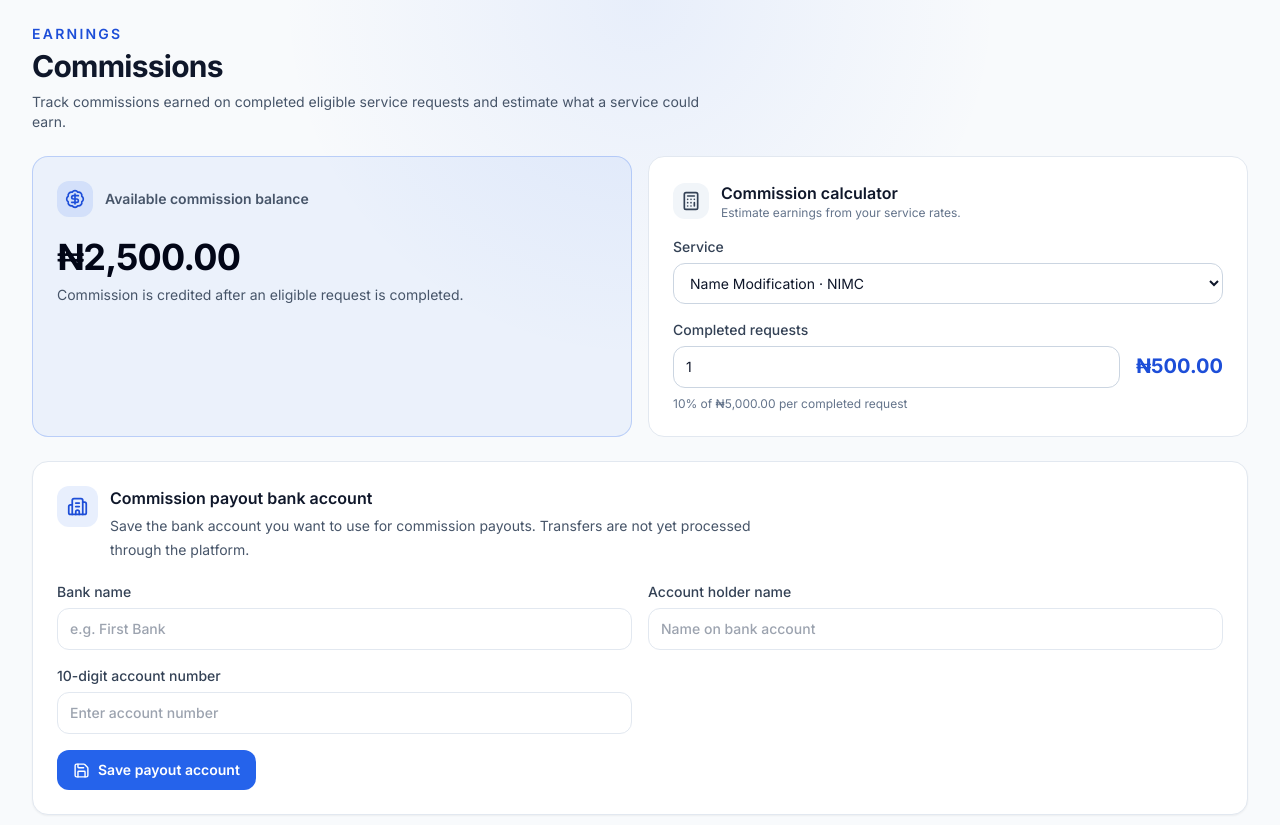
Test: Commissions › submits bank details to the payout endpoint without a document
Expected: the heading "Commission calculator" is shown, [721, 183, 898, 203]
Type "First Bank" into the field labelled "Bank name" at (344, 629), box [57, 608, 632, 650]
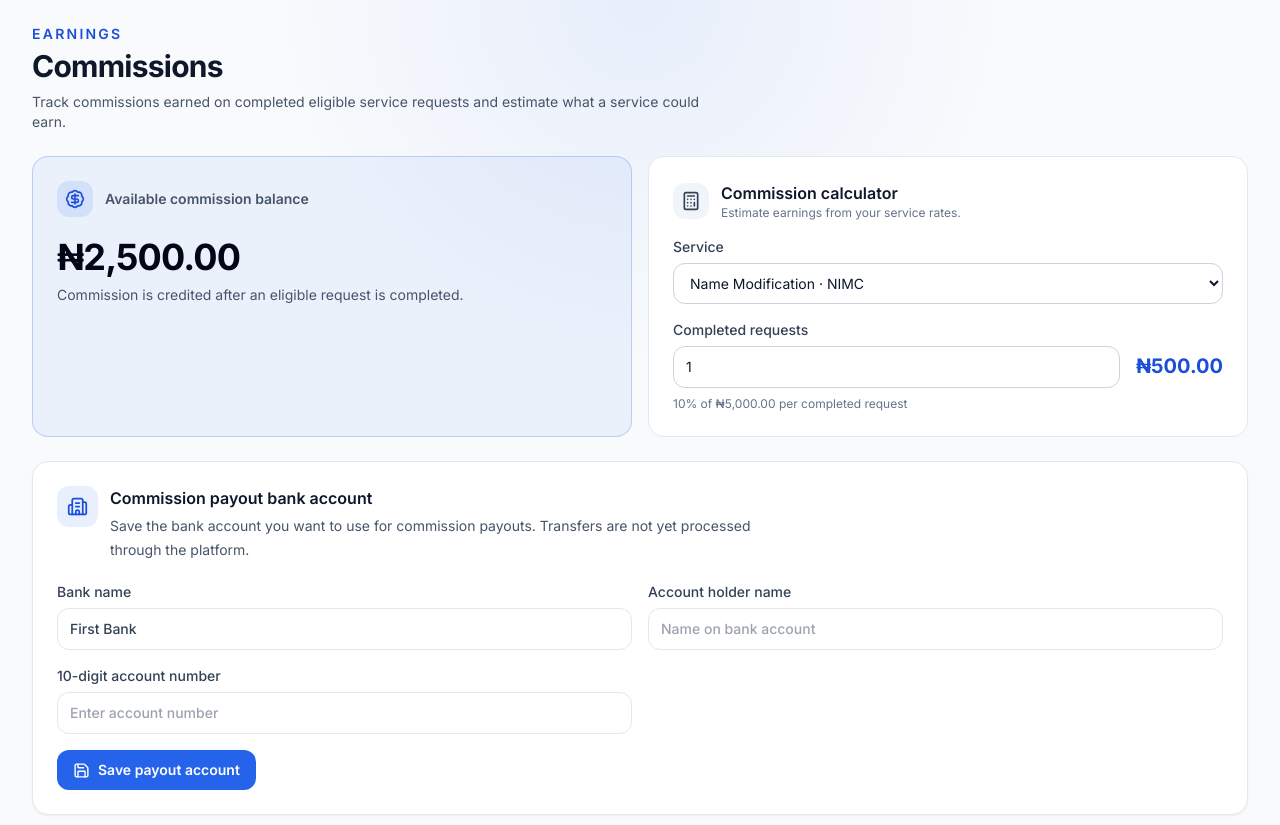
Type "Ada Agent" into the field labelled "Account holder name" at (936, 629), box [648, 608, 1223, 650]
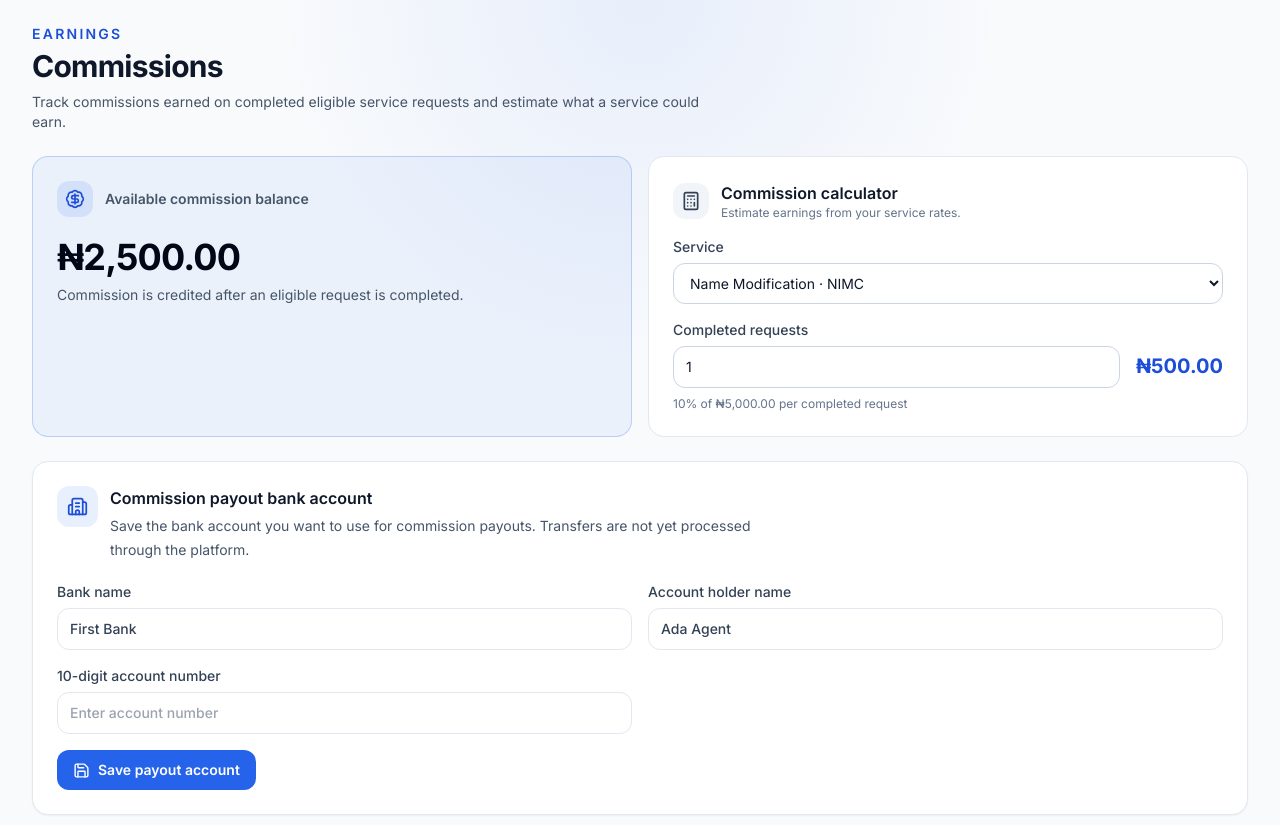
Type "1234561234" into the field labelled "10-digit account number" at (344, 713), box [57, 692, 632, 734]
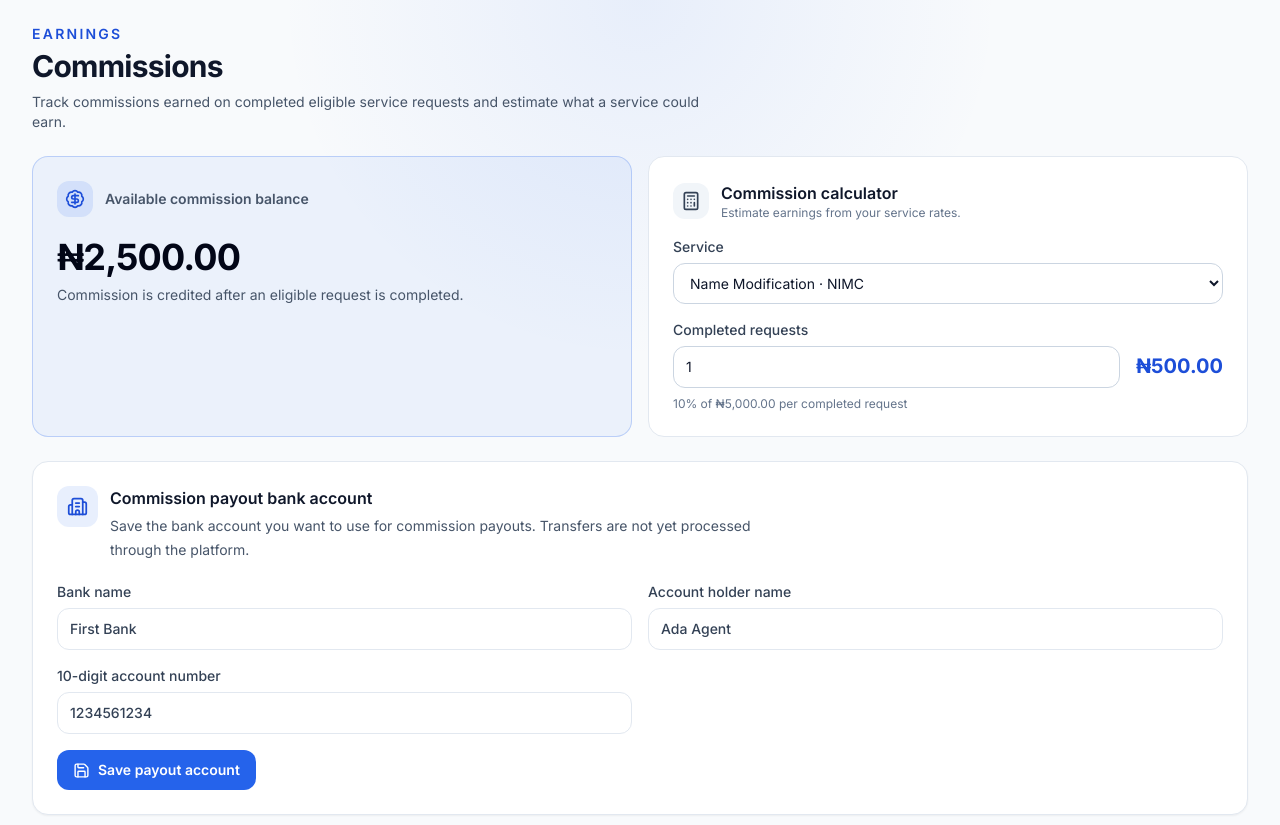
Submit the form "Save payout account", box [57, 582, 1223, 790]
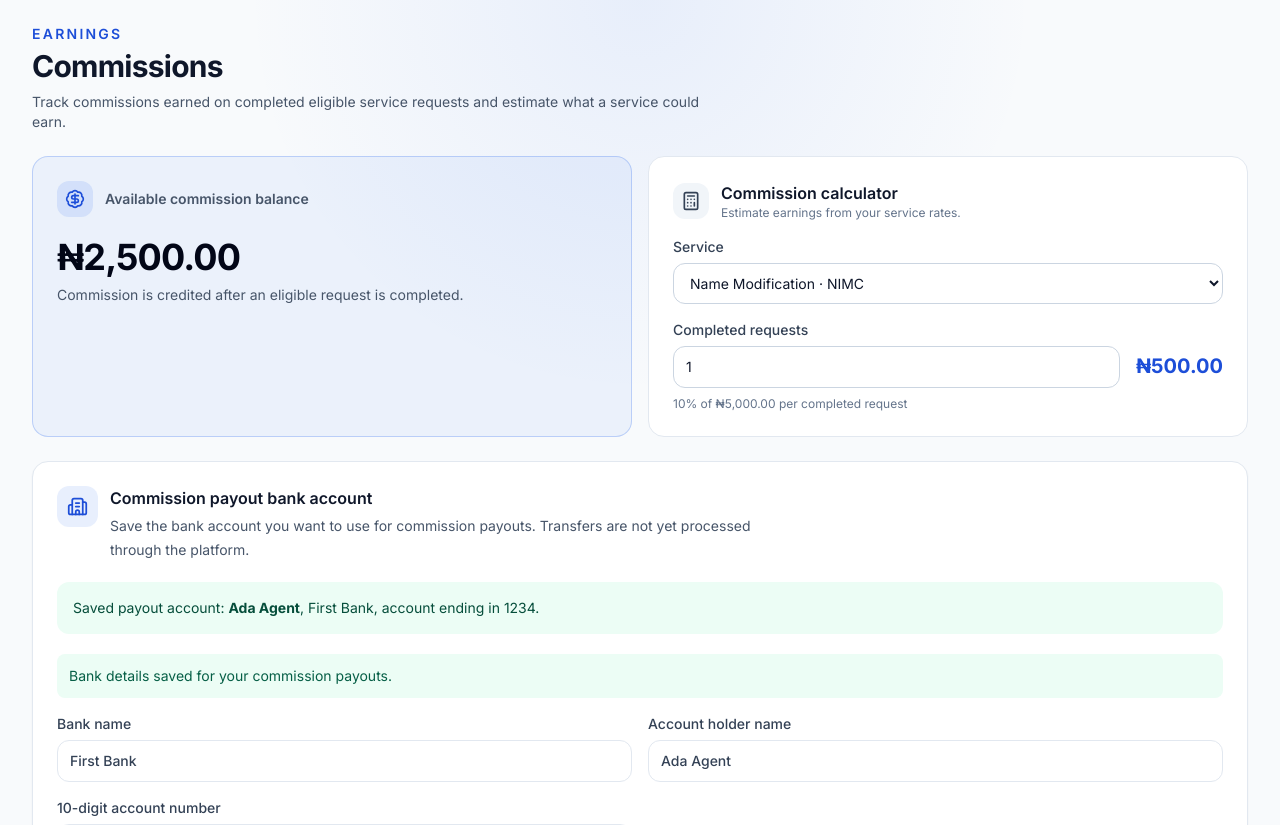
Now the message shows "Bank details saved", box [69, 667, 392, 684]
